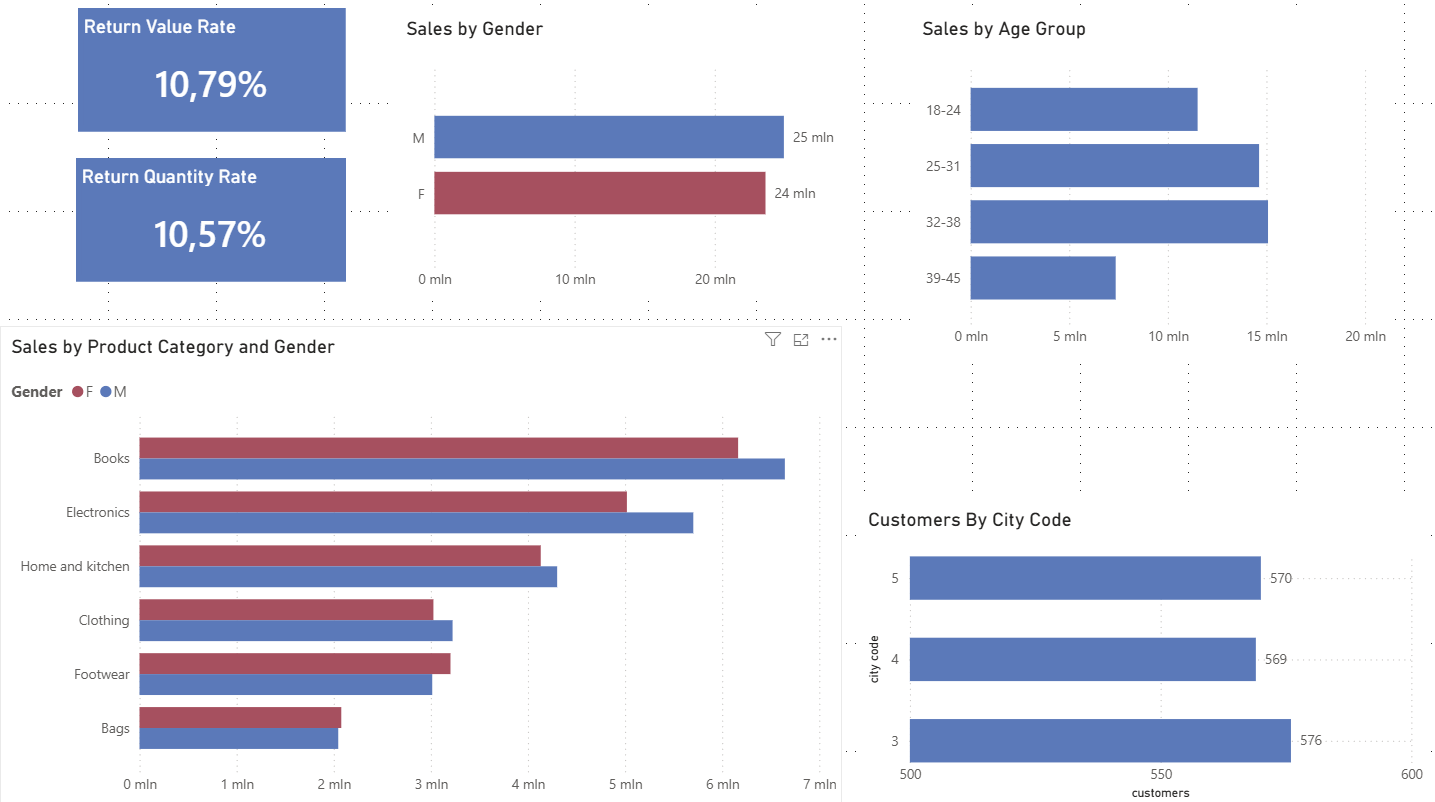

Layout of this report page (visuals, bound fields, positions):
{"tool":"powerbi","page":{"name":"Customer Analysys","canvas":[1280,720],"ordinal":1},"visuals":[{"type":"clusteredBarChart","title":"Sales by Age Group","fields":{"Category":["Customer_Final.ageGroup"],"Y":["Customer_Final.totalSales"]},"box":[809.6,11.9,427.5,309.8],"z":0},{"type":"clusteredBarChart","title":"Sales by Gender","fields":{"Category":["Customer_Final.gender"],"Y":["Customer_Final.totalSales"]},"box":[350.8,11.9,414.7,259.3],"z":1000},{"type":"clusteredBarChart","title":"Sales by Product Category and Gender","fields":{"Category":["Customer_Final.productCategory"],"Y":["Customer_Final.totalSales"],"Series":["Customer_Final.gender"]},"box":[0,294.4,748.2,425.6],"z":2000},{"type":"cardVisual","title":"Return Value Rate","fields":{"Data":["Customer_Final.returnValueRate"]},"box":[69.3,11.9,237.5,109.9],"z":3000,"group":"g1"},{"type":"cardVisual","title":"Return Quantity Rate","fields":{"Data":["Customer_Final.returnQuantityRate"]},"box":[67.3,145.5,239.5,109.9],"z":4000,"group":"g1"},{"type":"clusteredBarChart","title":"Customers By City Code","fields":{"Y":["Customer_Final.uniqueCustomers"],"Category":["Customer_Final.cityCode"]},"box":[762.1,447.8,507.7,272.2],"z":5000},{"type":"group","id":"g1","title":"Grupa 1","box":[67.3,11.9,239.5,243.5],"z":5001}]}

Visuals, with their boxes in screenshot pixels (x1, y1, x2, y2), scaled from the page's 1280x720 canvas onto the 1435x802 screenshot:
"Sales by Age Group" clusteredBarChart: [908,13,1387,358]
"Sales by Gender" clusteredBarChart: [393,13,858,302]
"Sales by Product Category and Gender" clusteredBarChart: [0,328,839,801]
"Return Value Rate" cardVisual: [78,13,344,136]
"Return Quantity Rate" cardVisual: [75,162,344,284]
"Customers By City Code" clusteredBarChart: [854,499,1424,801]
"Grupa 1" group: [75,13,344,284]
